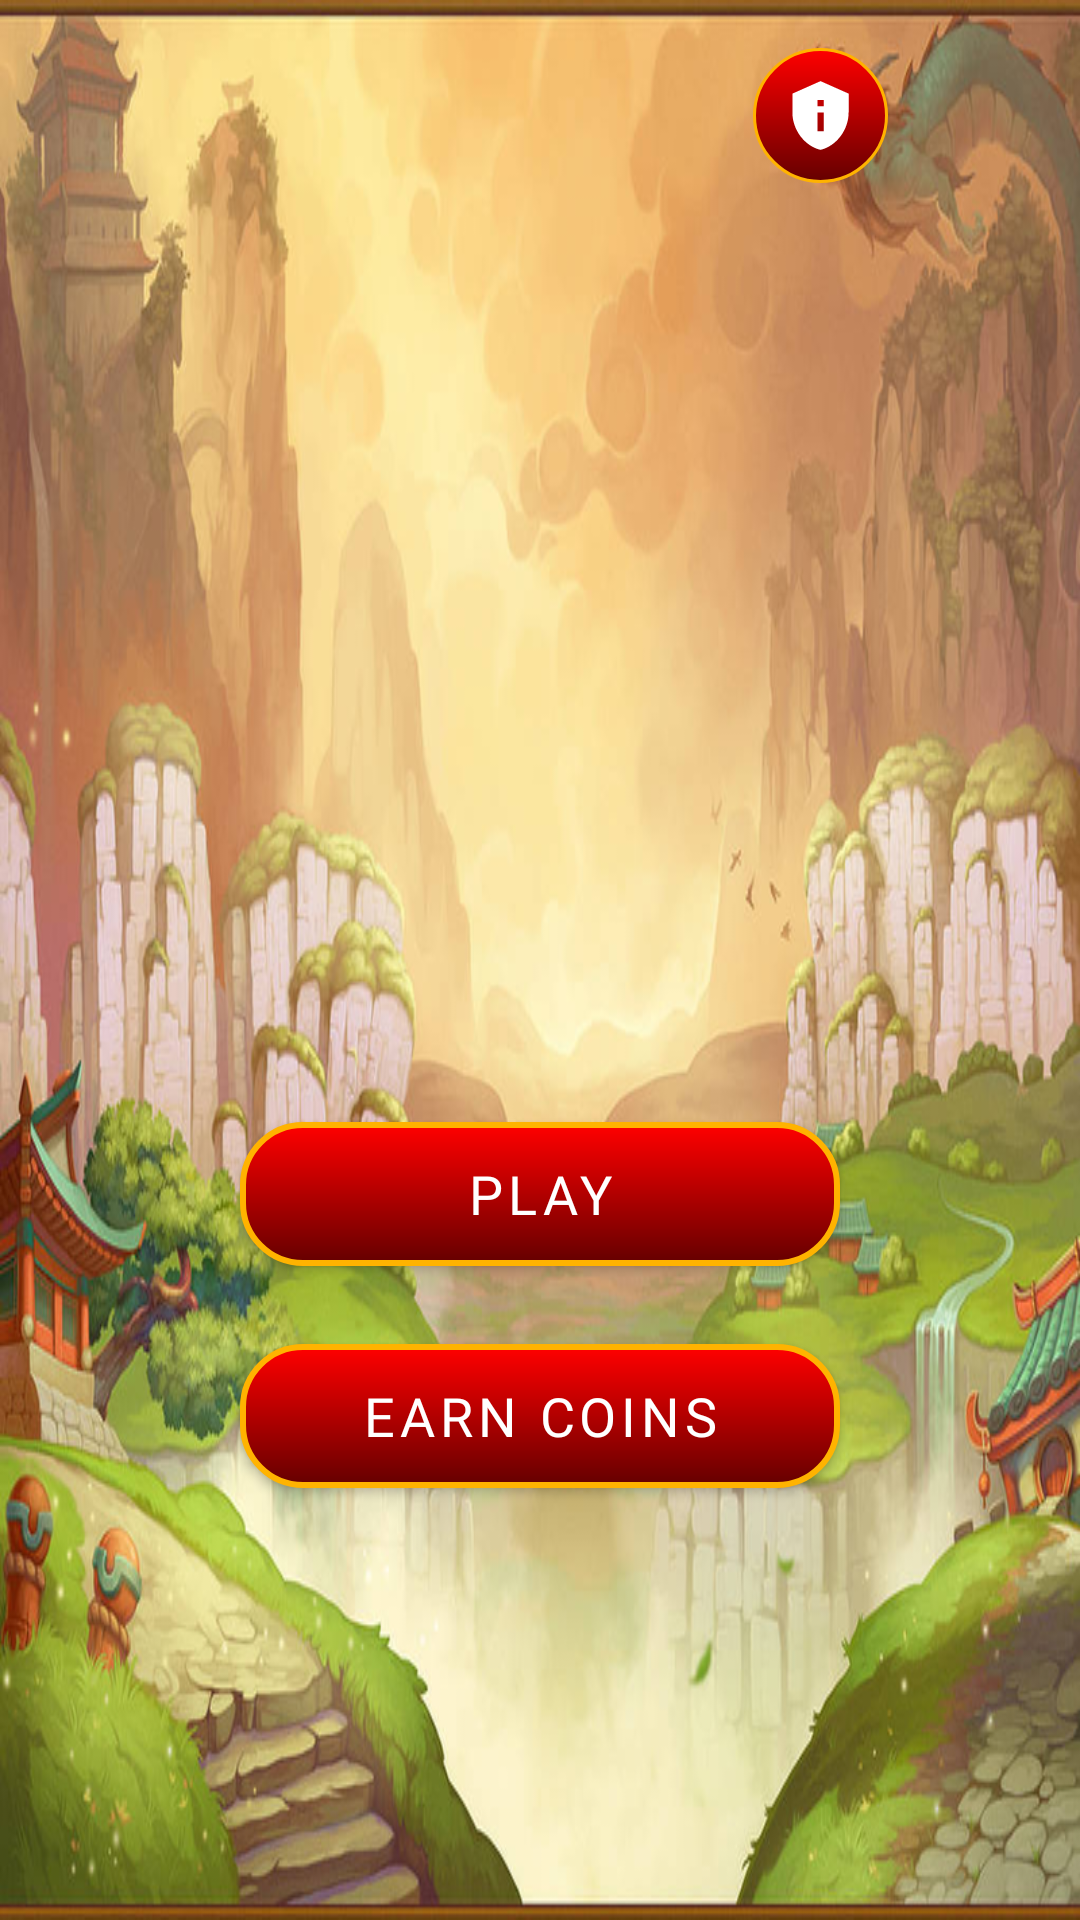

Where to tap for icons on this 1080 x 1920 app screen, as point (x, y):
privacy tip: point (820, 115)
